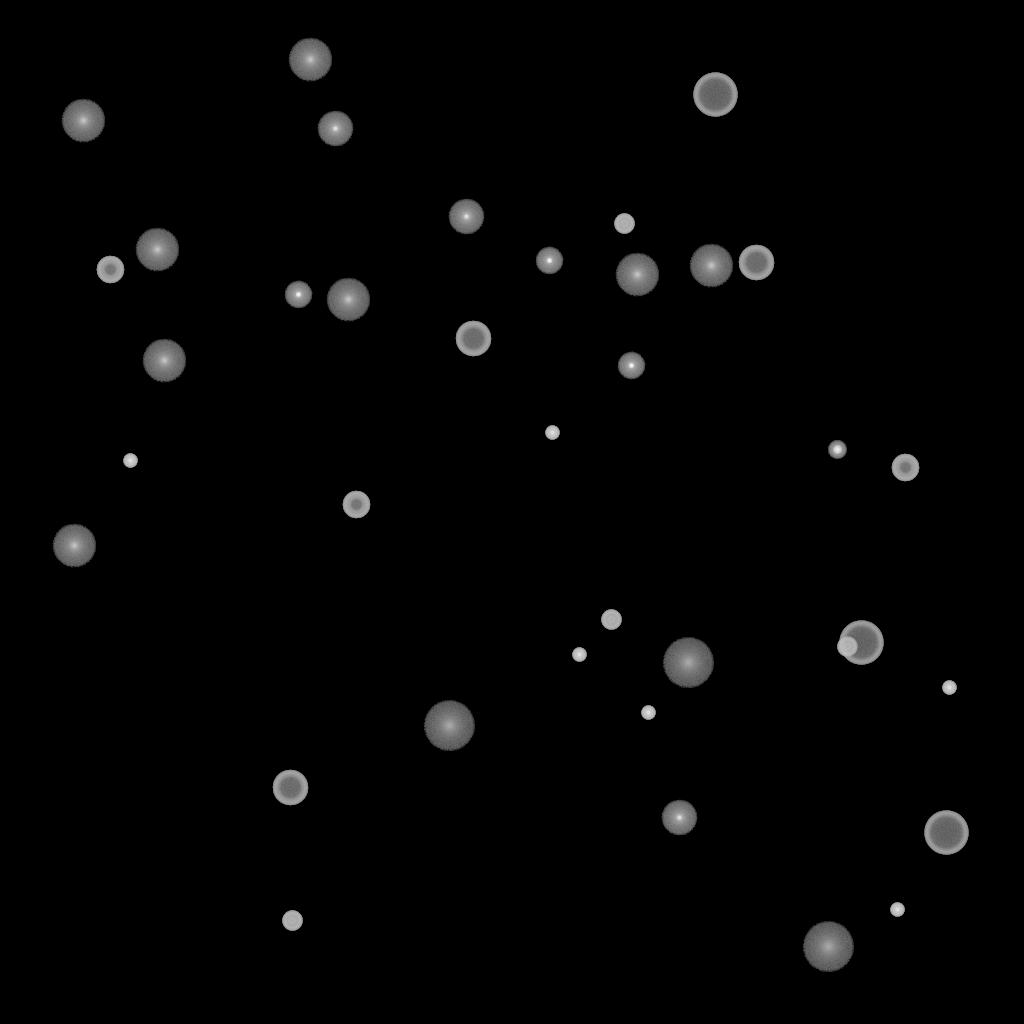depth:-10: (284, 281, 312, 309), (535, 247, 563, 275), (617, 352, 645, 380)
depth:-20: (828, 441, 846, 459)
depth:-30: (890, 903, 904, 917), (942, 681, 956, 695), (545, 426, 559, 440), (572, 648, 586, 662), (641, 706, 655, 720), (123, 454, 137, 468)
depth:-40: (837, 637, 857, 657), (282, 911, 302, 931), (601, 610, 621, 630), (614, 214, 634, 234)
depth:-50: (891, 454, 919, 482), (342, 491, 370, 519), (96, 256, 124, 284)
depth:-60: (455, 321, 491, 357), (738, 245, 774, 281), (272, 770, 308, 806)
depth:-70: (839, 621, 883, 665), (924, 811, 968, 855), (693, 73, 737, 117)
depth:0: (448, 199, 484, 235), (661, 800, 697, 836), (317, 111, 353, 147)
depth:10: (288, 38, 332, 82), (52, 524, 96, 568), (326, 278, 370, 322), (615, 253, 659, 297), (689, 244, 733, 288), (61, 99, 105, 143), (142, 339, 186, 383), (135, 228, 179, 272)
depth:20: (802, 922, 854, 972), (662, 638, 714, 688), (423, 701, 475, 751)
